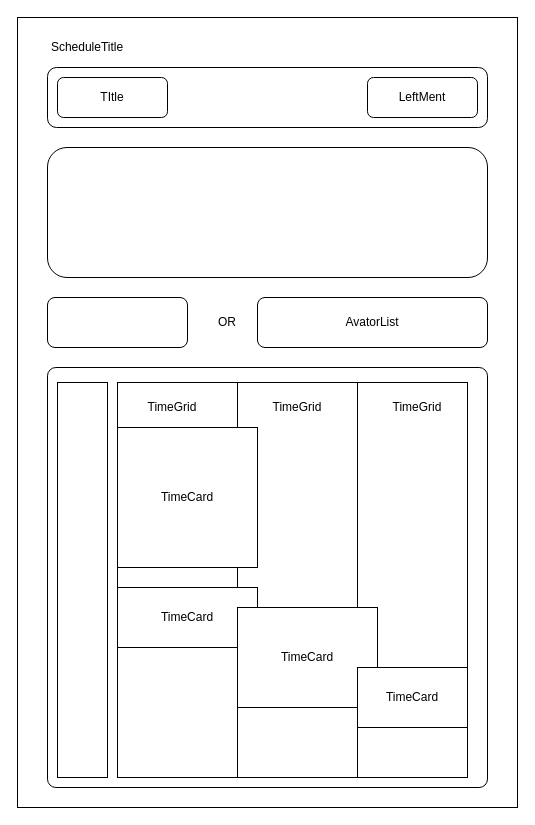
The diagram is 535 pixels wide and 825 high, and some of its shapes have lost their labels. Each missing label, with the box of its shape:
MessageInfo: (46, 296, 188, 348)
ScheduleCalendar: (46, 146, 488, 278)
TImeLine: (56, 382, 108, 778)
